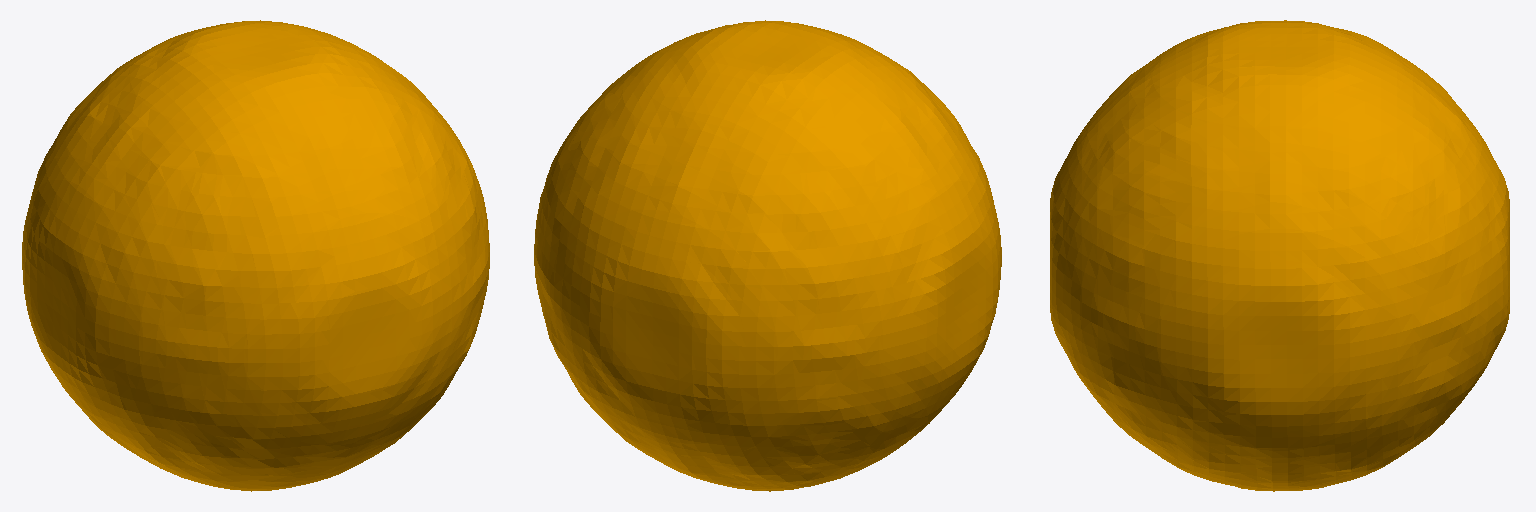
robot.urdf — object:
<?xml version="1.0"?>
<robot name="object">
  <link name="object">
    <visual>
      <origin xyz="0 0 0"/>
      <geometry>
        <mesh filename="meshes/subset_100_scaled/egad_F00_0_s.obj" scale=".03 .03 .03"/>
      </geometry>
    </visual>
    <collision>
  <origin xyz="0 0 0"/>
  <geometry>
    <mesh filename="meshes/subset_100_scaled/egad_F00_0_s_0decompose.obj" scale=".03 .03 .03"/>
<!--          <mesh filename="meshes/custom/obj0_ball.obj" scale=".05 .05 .05"/>-->
  </geometry>
</collision>

<!--    <collision>-->
<!--      <origin xyz="0 0 0"/>-->
<!--      <geometry>-->
<!--        <mesh filename="meshes/subset_100_scaled/egad_F00_0_s.obj" scale=".03 .03 .03"/>-->
<!--&lt;!&ndash;          <mesh filename="meshes/custom/obj0_ball.obj" scale=".05 .05 .05"/>&ndash;&gt;-->
<!--      </geometry>-->
<!--    </collision>-->
    <inertial>
      <density value="1000.0"/>
    </inertial>
  </link>
</robot>

--- What the picture shows (computed from the rendered views, not written in the file) ---
3 views of the same robot in one strip: view 1: azimuth 30°, elevation 25°; view 2: azimuth 150°, elevation 25°; view 3: azimuth 270°, elevation 25° (orthographic).
Robot: object — 1 links, 0 joints (none); root link object; default pose: every joint at zero.
Links seen in each view (by area): view 1: object; view 2: object; view 3: object.
Boxes of the visible links, bbox=[...] form: object: bbox=[22, 20, 489, 491]; object: bbox=[534, 20, 1001, 491]; object: bbox=[1050, 20, 1509, 491].
Size in the robot's own frame: 0.06 by 0.06 by 0.06 metres.
1 mesh visuals loaded from 1 distinct referenced files (1 OBJ).
